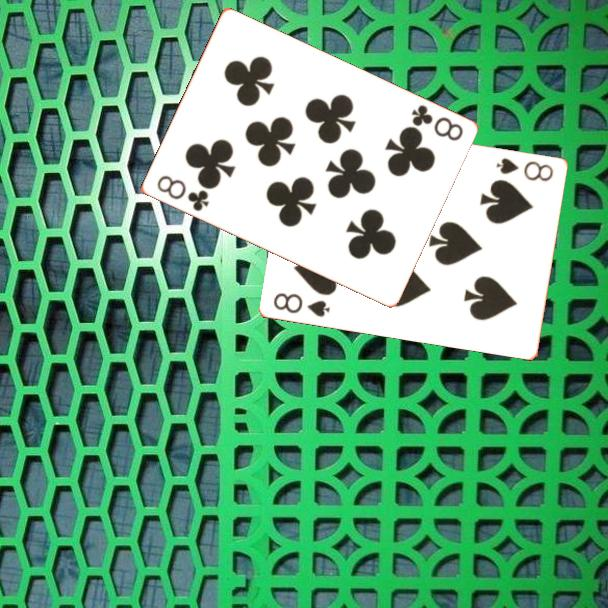c08: (407, 101, 466, 144), (153, 172, 212, 214)
s08: (270, 289, 333, 320), (493, 154, 557, 184)
